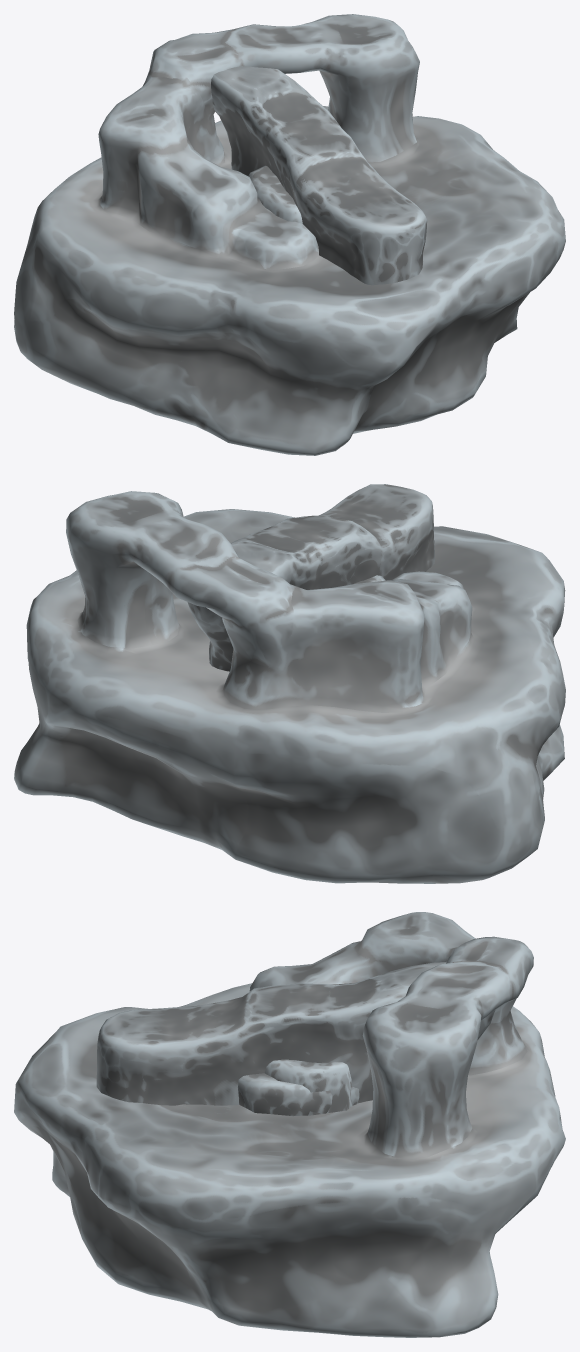
The model's file is PenguinBooth.fbx.
3 renders of one model, top to bottom at view 1: azimuth 30°, elevation 25°; view 2: azimuth 150°, elevation 25°; view 3: azimuth 270°, elevation 25°, orthographic. The views are drawn at different scales.
Parts seen in each view (by area): view 1: rock_base_low, rock_bridge_low, rock_floor2_low; view 2: rock_base_low, rock_bridge_low; view 3: rock_base_low, rock_bridge_low, rock_floor1_low, rock_floor2_low.
Part boxes in pixels (x1=…): rock_base_low: x1=14, y1=14, x2=565, y2=455; rock_bridge_low: x1=211, y1=66, x2=427, y2=285; rock_floor2_low: x1=248, y1=165, x2=302, y2=223; rock_base_low: x1=14, y1=491, x2=565, y2=883; rock_bridge_low: x1=187, y1=484, x2=434, y2=671; rock_base_low: x1=14, y1=912, x2=565, y2=1337; rock_bridge_low: x1=96, y1=961, x2=495, y2=1105; rock_floor1_low: x1=238, y1=1073, x2=359, y2=1116; rock_floor2_low: x1=265, y1=1059, x2=352, y2=1115.
Bounding box in the file's own units: 0.3073 × 0.1716 × 0.2979.
2 materials, 2 textured.
